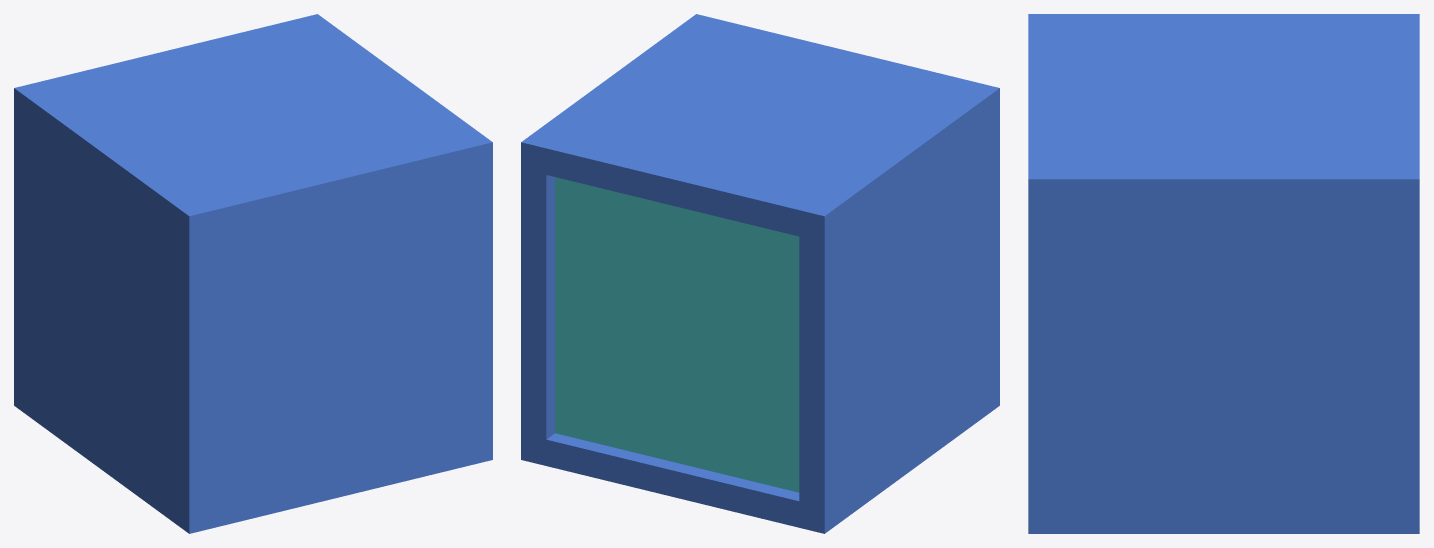
The model's file is testingDoubleColor.fbx.
3 renders of one model, left to right at view 1: azimuth 30°, elevation 25°; view 2: azimuth 150°, elevation 25°; view 3: azimuth 270°, elevation 25°, orthographic. The views are drawn at different scales.
Parts seen in each view (by area): view 1: Cube; view 2: Cube; view 3: Cube.
Part boxes in pixels (x1=…): Cube: x1=14, y1=14, x2=492, y2=533; Cube: x1=521, y1=14, x2=999, y2=533; Cube: x1=1028, y1=14, x2=1419, y2=533.
Bounding box in the file's own units: 200 × 200 × 200.
